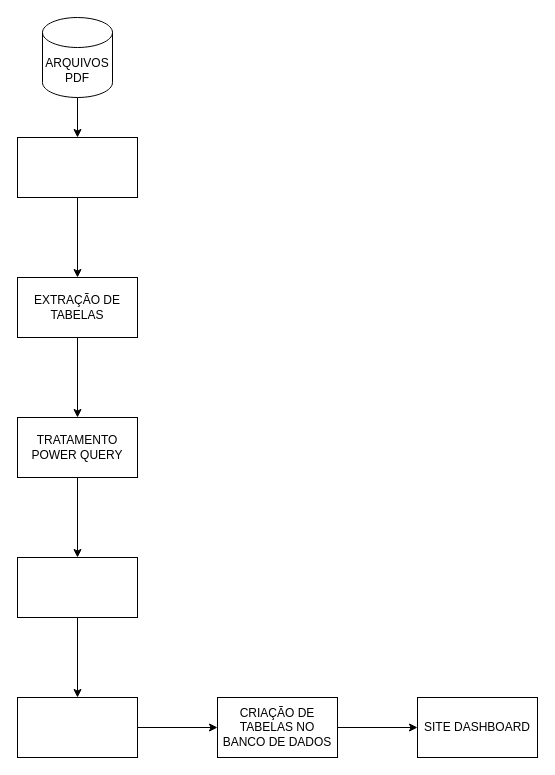
The diagram is 555 pixels wide and 775 high, and some of its shapes have lost their labels. Each missing label, with the centre of its shape:
EXTRAÇÃO DE TEXTO: (77,167)
MERGE COM ANOTAÇÕES DE CADA ID AGENTE: (77,587)
TABELA UNICA EM EXCEL COM RESULTADOS CONSOLIDADOS: (77,727)
